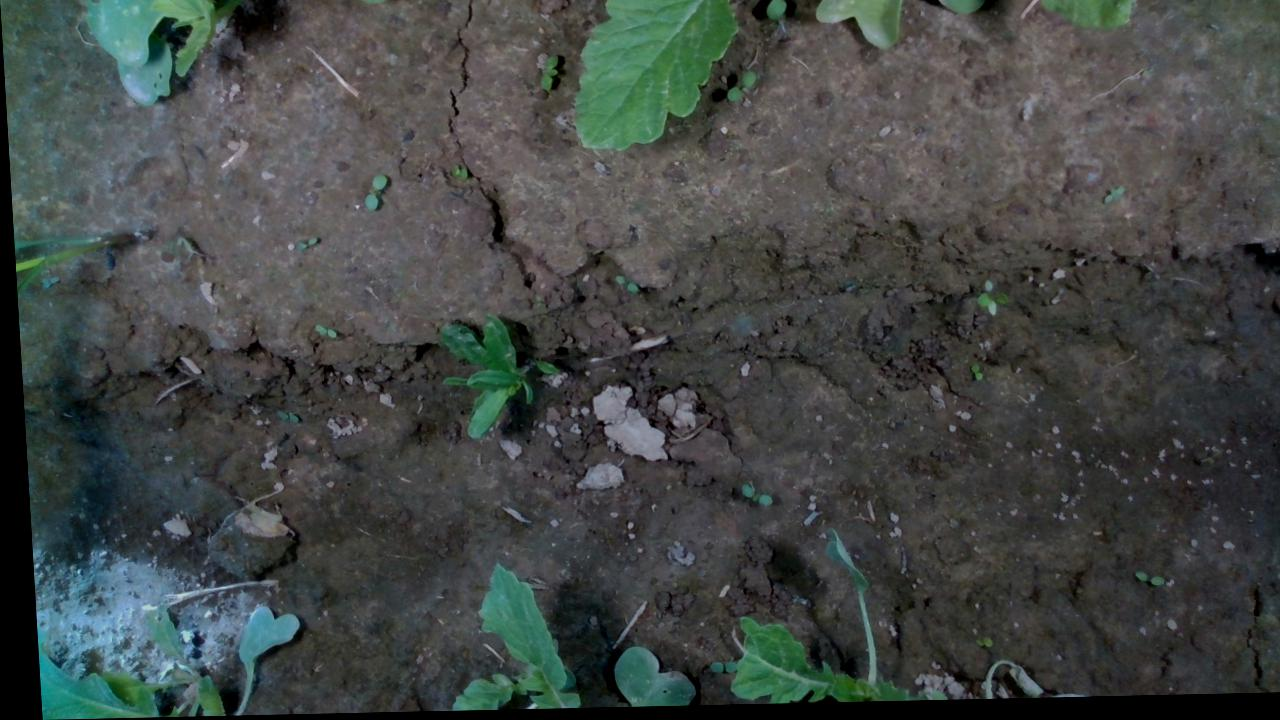weed: (969, 281, 1008, 320), (720, 72, 755, 106), (357, 173, 386, 213), (536, 54, 560, 94), (732, 484, 766, 511), (1124, 572, 1160, 593), (266, 405, 293, 427), (610, 275, 635, 298), (1098, 187, 1123, 209), (306, 323, 333, 342), (444, 162, 466, 183), (291, 238, 317, 251), (965, 638, 985, 654), (964, 366, 979, 386)
